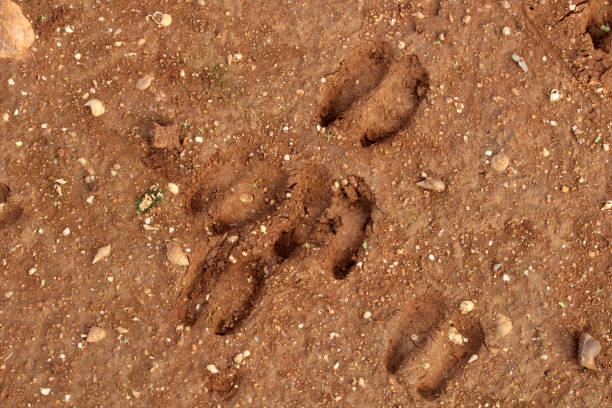animal_foot_print: (177, 165, 373, 334), (177, 166, 330, 334), (320, 42, 428, 145), (384, 296, 483, 398), (178, 234, 266, 334), (187, 159, 287, 232), (320, 41, 390, 126), (320, 176, 374, 278), (384, 296, 444, 373), (0, 183, 22, 229)
